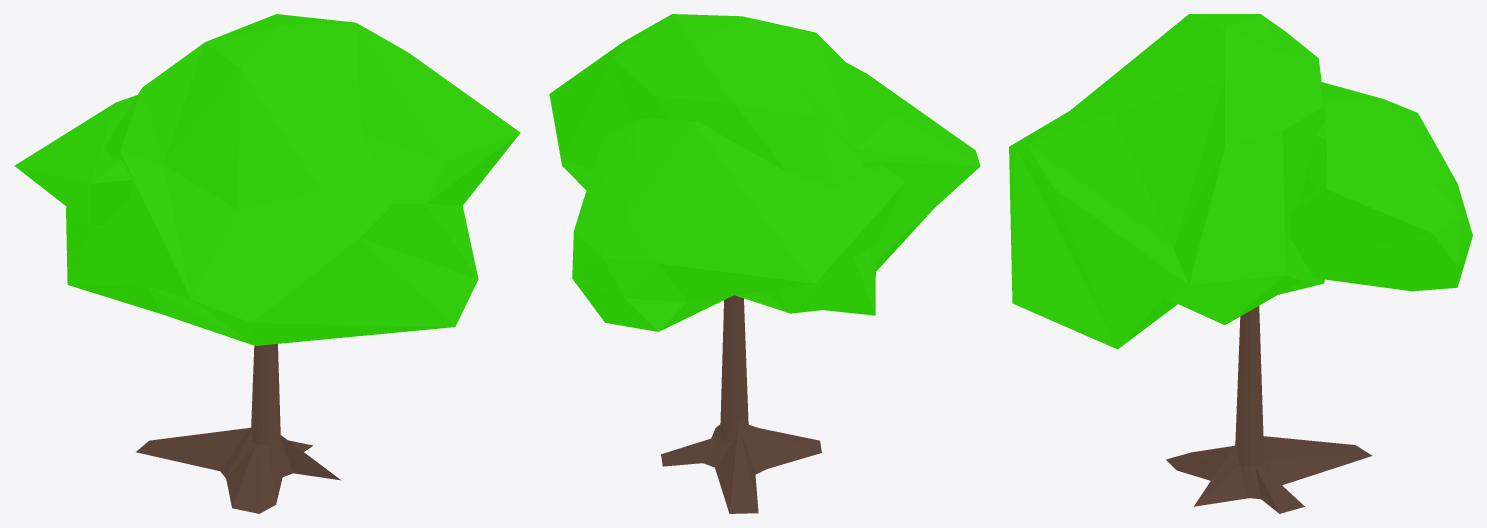
Rendered from tree.glb.
3 views of the same model, side by side, from view 1: azimuth 30°, elevation 25°; view 2: azimuth 150°, elevation 25°; view 3: azimuth 270°, elevation 25° (orthographic). The views are drawn at different scales.
Parts seen in each view (by area): view 1: Tree; view 2: Tree; view 3: Tree.
Boxes of the visible parts, left/top/right/bottom form: Tree: left=14, top=14, right=520, bottom=513; Tree: left=549, top=14, right=980, bottom=513; Tree: left=1009, top=14, right=1472, bottom=513.
Size of the model in its own units: 11.49 by 12.4 by 11.39.
